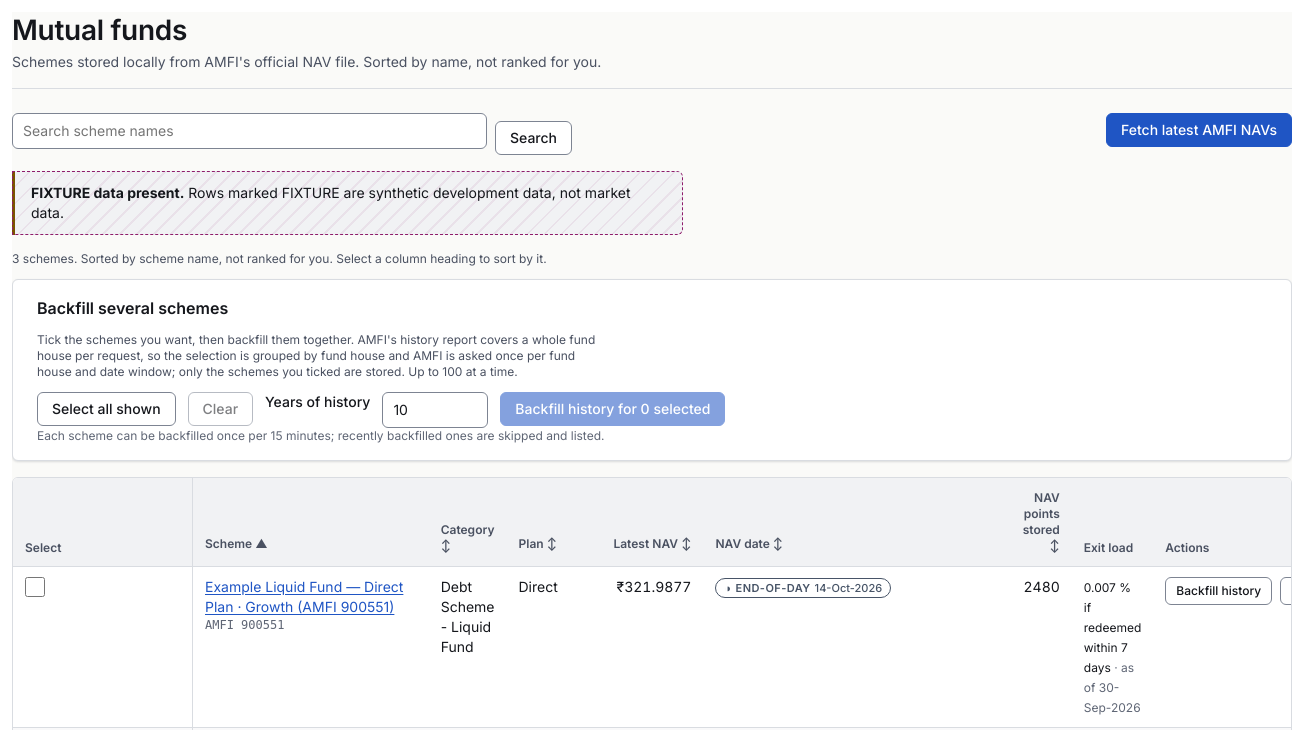
Test case: MfExplorer batch backfill (walkthrough 2026-10-15) › selects only real schemes, sends their codes once, and reports per fund house after hosted steps
The width and height of the screenshot is (1304, 730).
expect the button "Backfill history for 0 selected" is disabled: met, box [500, 392, 726, 426]
Step 1. Click the button "Select all shown" → (106, 409), box [37, 392, 176, 426]
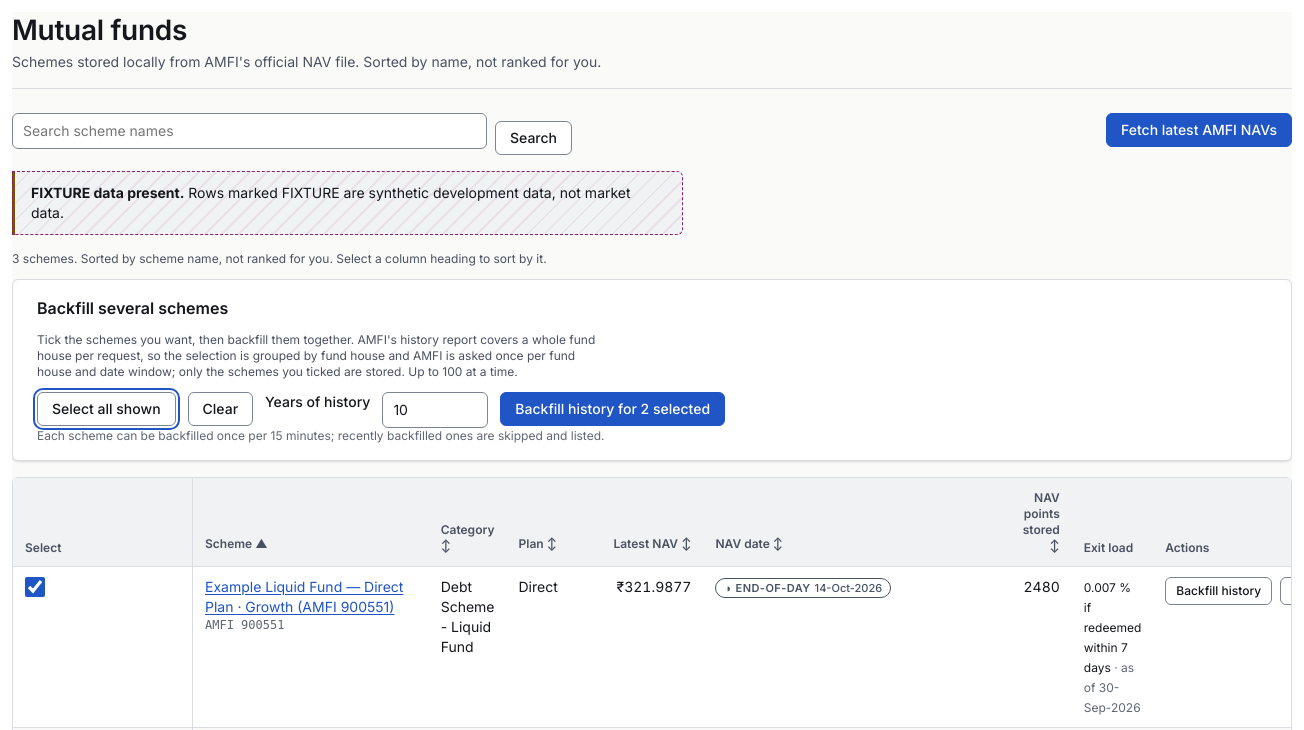
expect the checkbox named "Select Example Liquid" is checked: met, box [25, 577, 45, 597]
Step 2. Click the button "Backfill history for 2 selected" → (613, 409), box [500, 392, 725, 426]
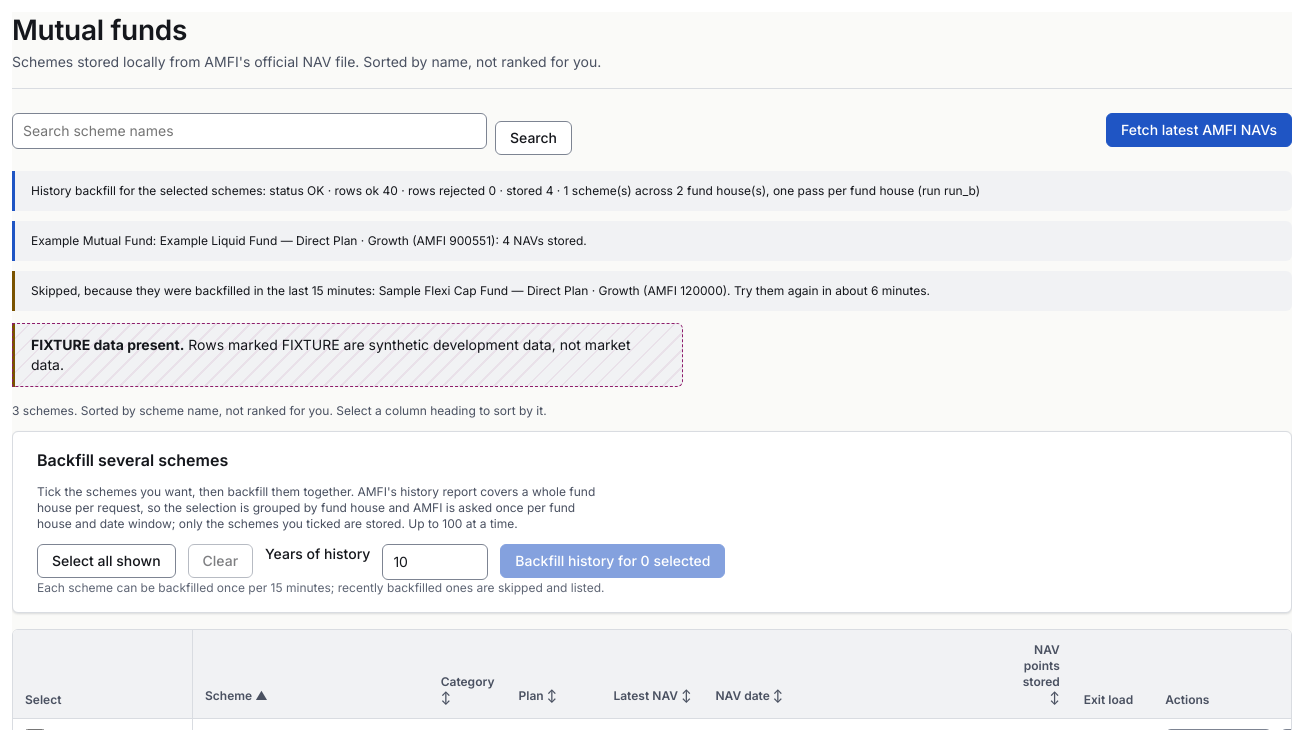
expect the list item "Example Mutual Fund: Example Liquid Fund — Direct Plan · Growth (AMFI 900551): 4 NAVs stored." is shown: met, box [31, 233, 587, 248]
expect the list item "Skipped, because they were backfilled in the last 15 minutes: Sample Flexi Cap Fund" shows "Try them again in about 6 minutes.": met, box [31, 283, 930, 298]
expect the list item "History backfill for the selected schemes: status OK" is shown: met, box [31, 183, 980, 198]
